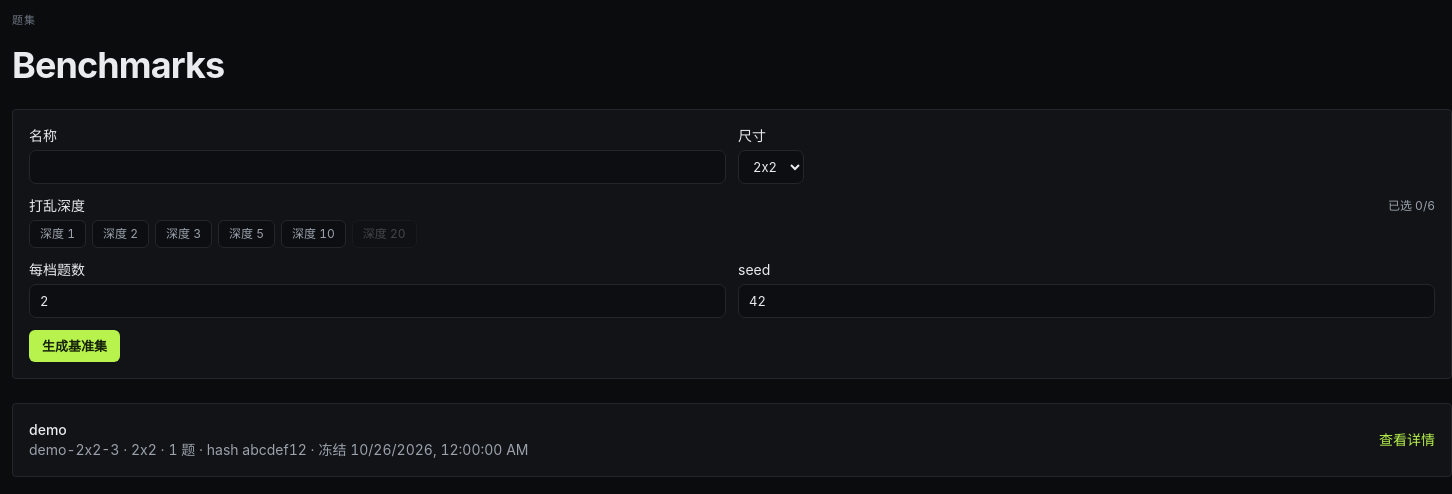
Test: BenchmarksView › keeps the conflict copy Chinese when the 409 detail is not JSON
In the field labelled "名称": (378, 167) [29,150,726,184], type "demo"
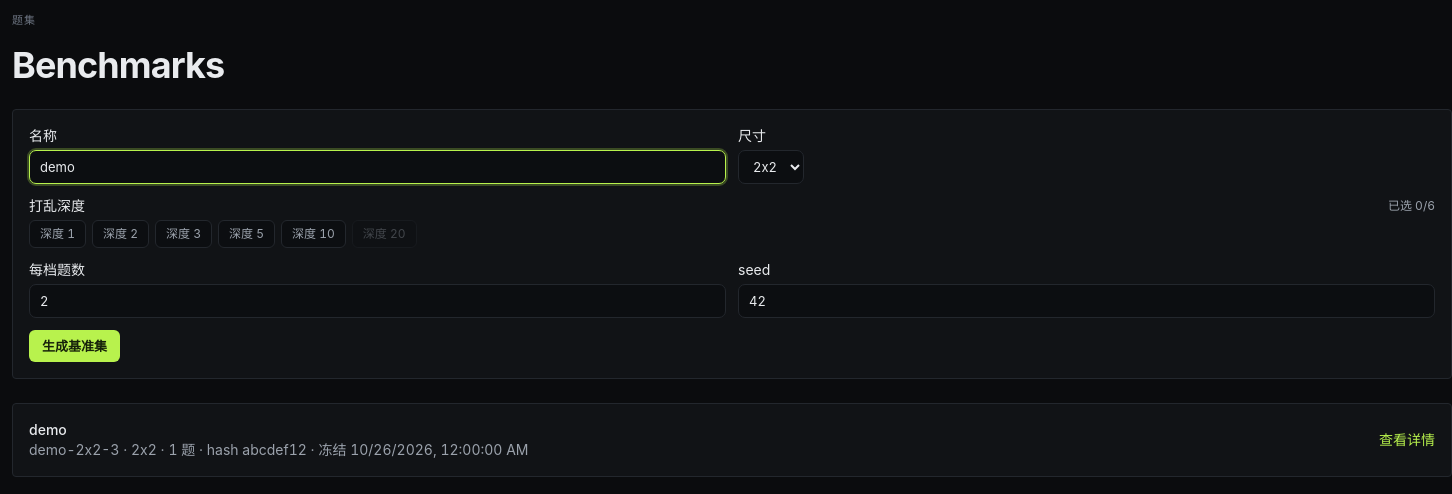
Click the checkbox labelled "深度 1": (58, 234) [29,220,86,248]
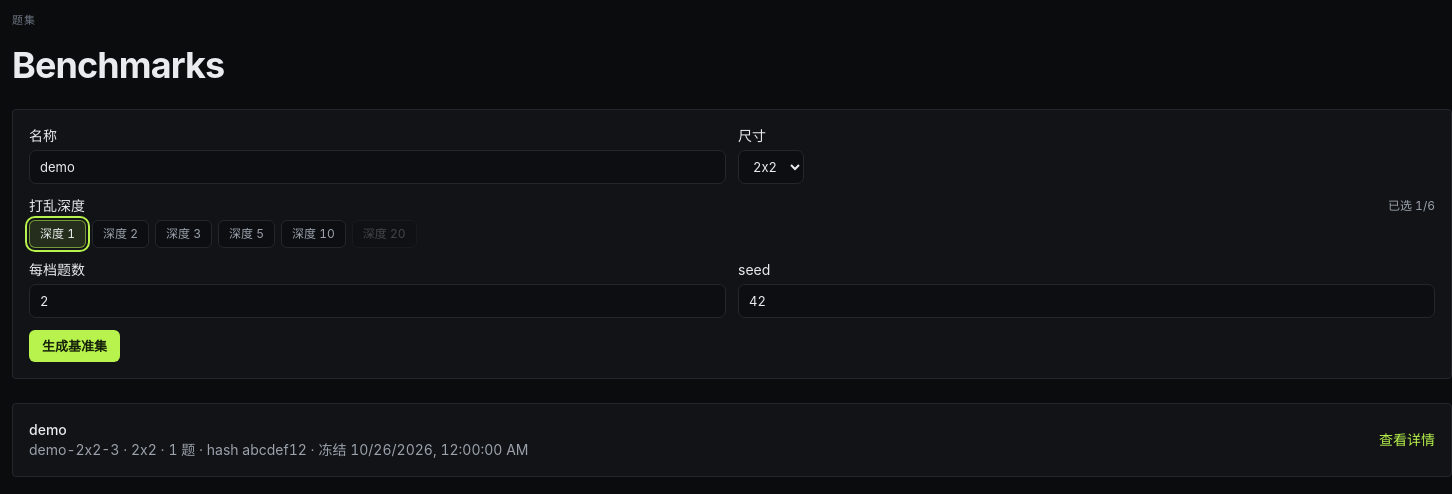
Click the button "生成基准集": (74, 346) [29,330,120,362]
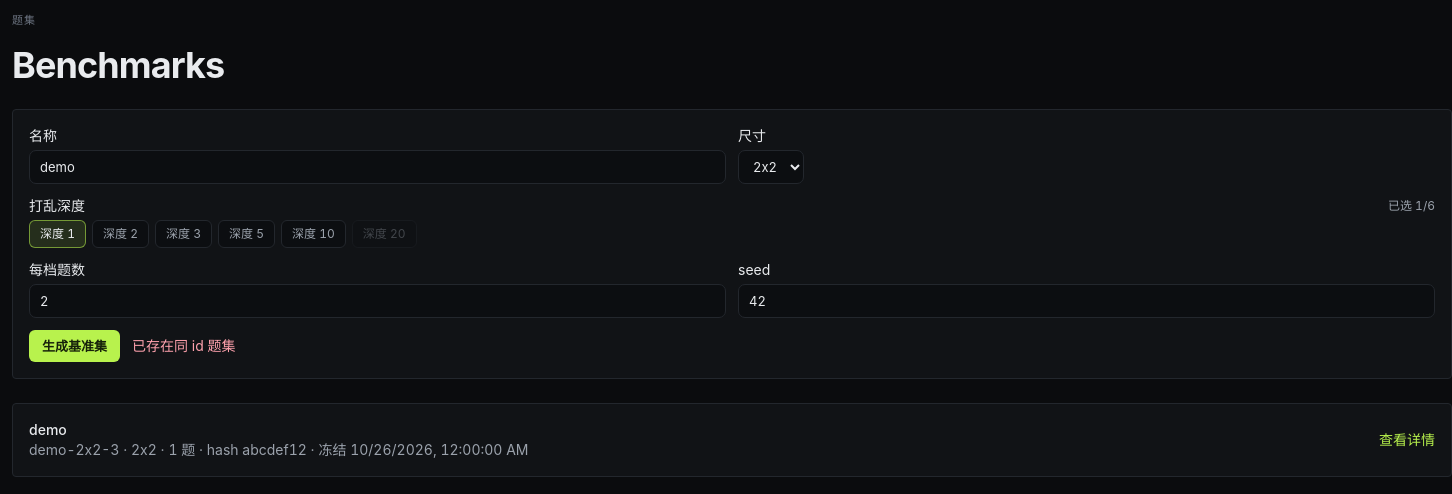
Now the message reads "已存在同 id 题集", box [132,337,236,354]
